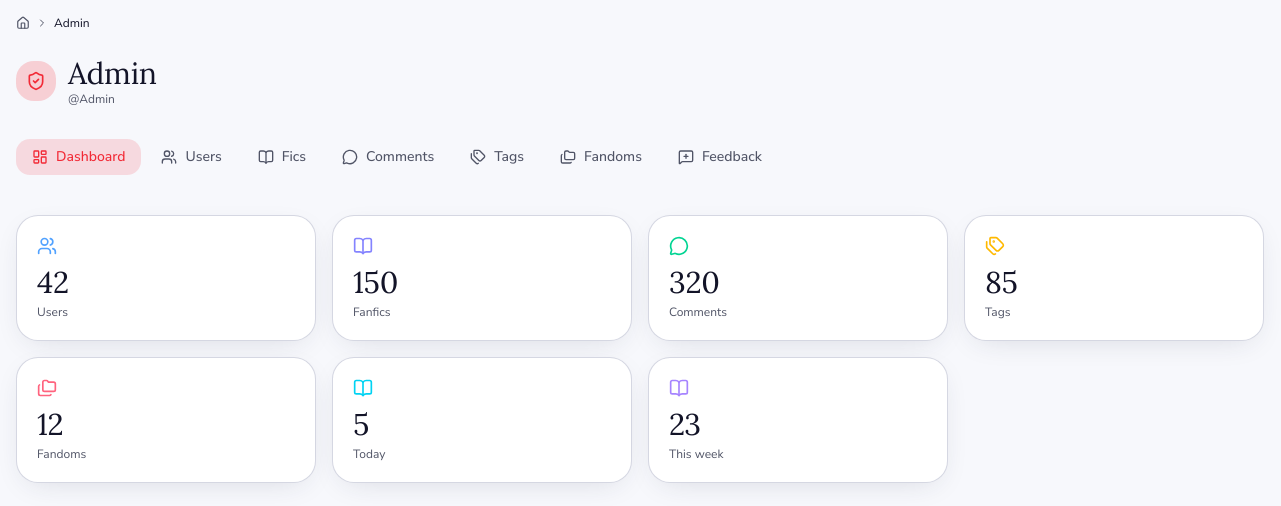
Scenario: AdminPage › switches section when tab is clicked
Expected: the button "Dashboard" is shown, [16,139,142,175]
Click the button "Feedback". click: (720, 157)
box: [662,139,778,175]
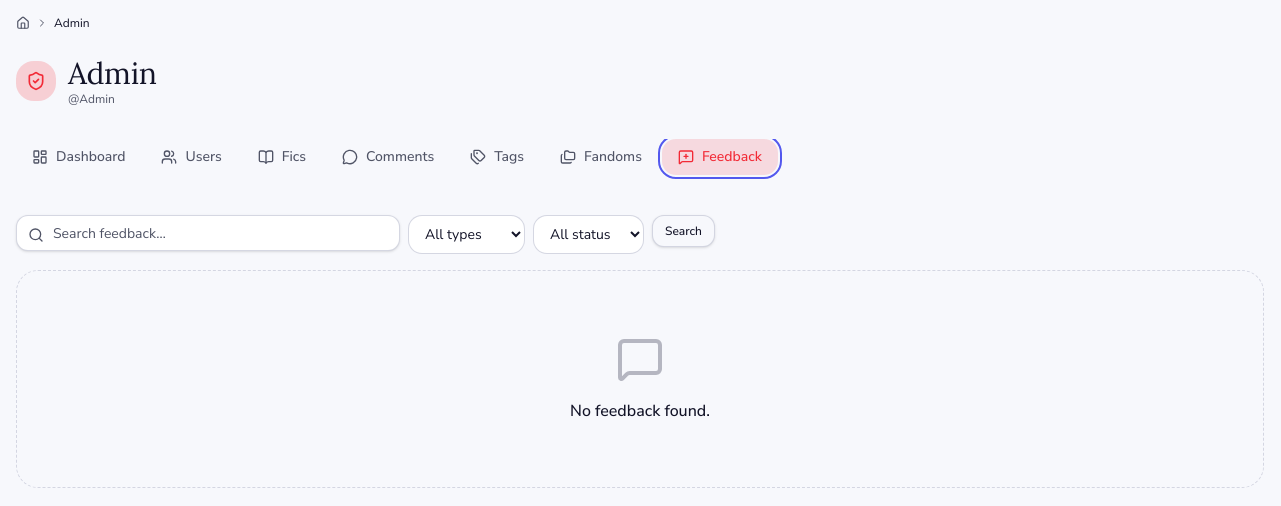
Now the text "No feedback found." is shown, box [570,399,710,423]
